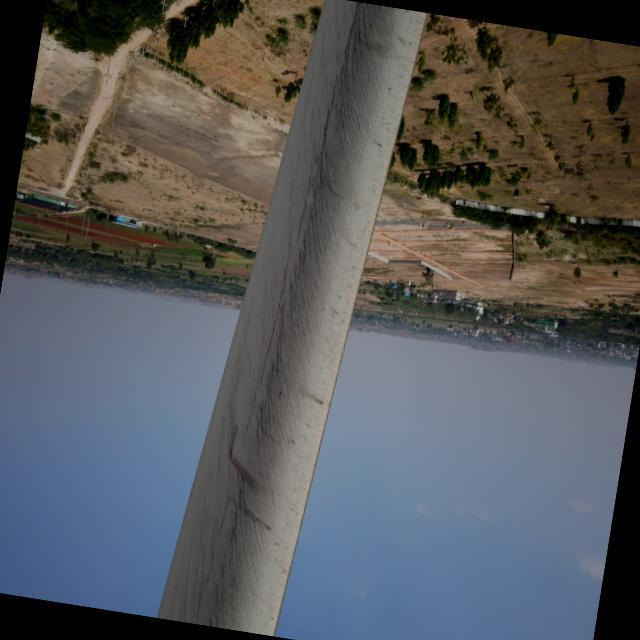Dirt: (150, 4, 432, 638)
